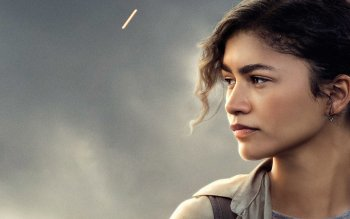noMask: (200, 5, 350, 164)
